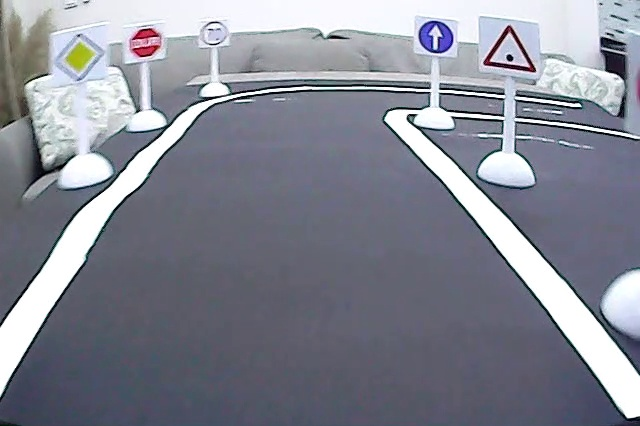green light: (479, 19, 540, 75)
speed limit 70: (199, 18, 229, 49)
stop sign: (126, 26, 164, 60)
